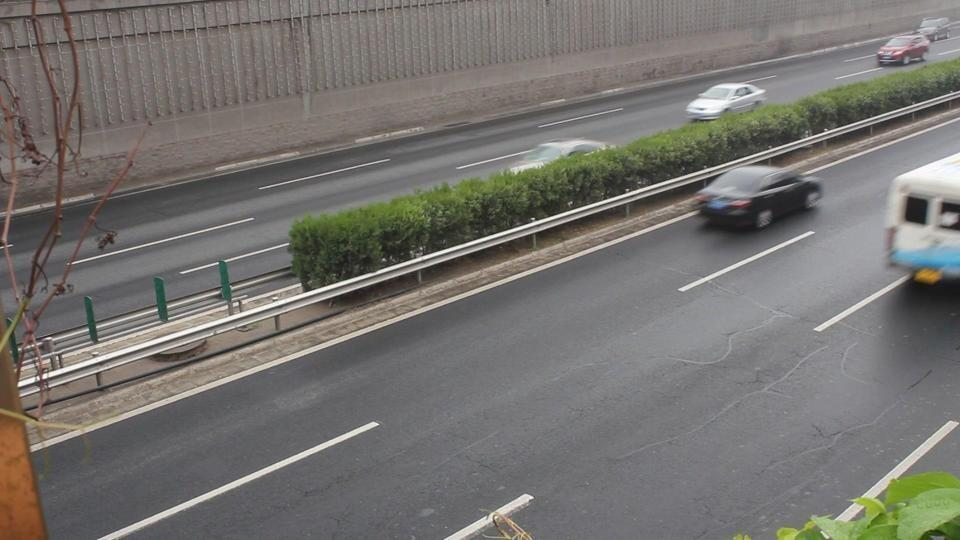car: (694, 164, 824, 231), (685, 82, 768, 122), (876, 33, 930, 67), (912, 17, 951, 41)
